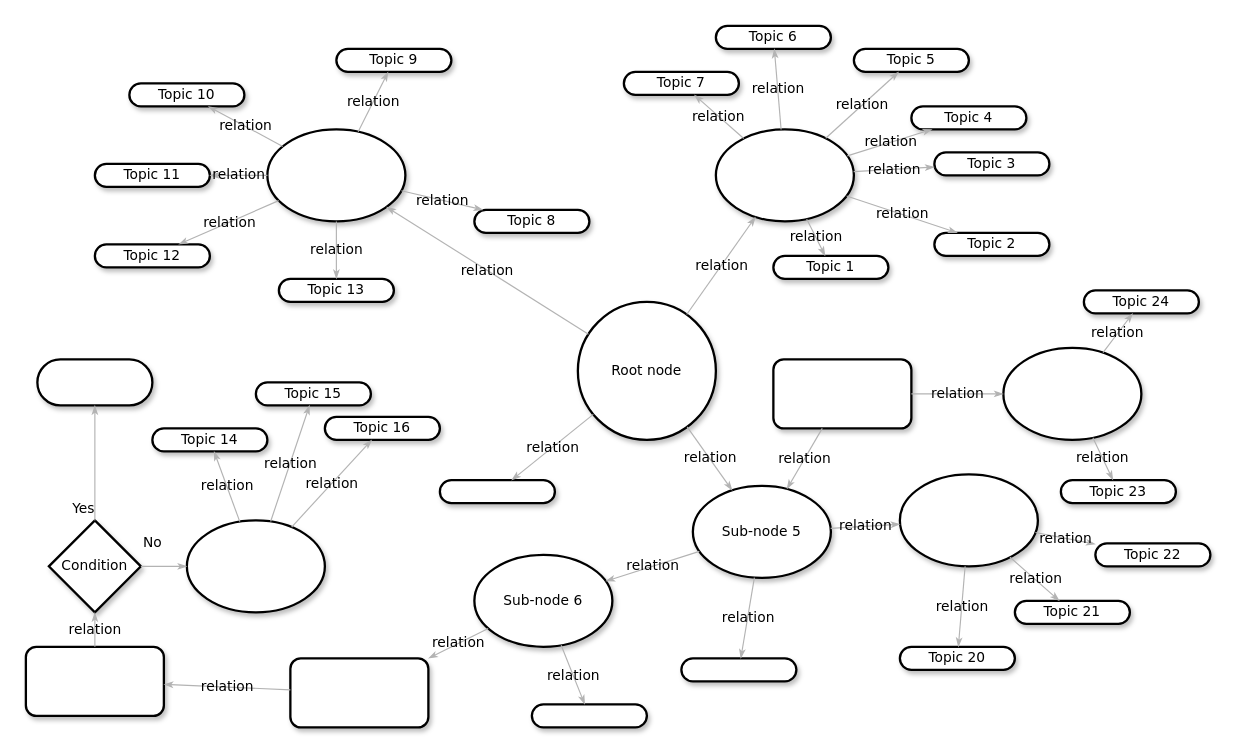
Some shapes in this 1237 by 756 pixel diagram are drawn without their labels. Here are the shapes that lost their labels. From the top down, the centre of each, then its label:
[337,176]: Sub-node 1
[785,176]: Sub-node 2
[95,383]: End
[843,395]: Process 1
[1073,395]: Sub-node 3
[498,493]: Topic 17
[969,521]: Sub-node 4
[256,567]: Sub-node 7
[95,682]: Process 3
[739,671]: Topic 19
[360,694]: Process 2
[590,717]: Topic 18
